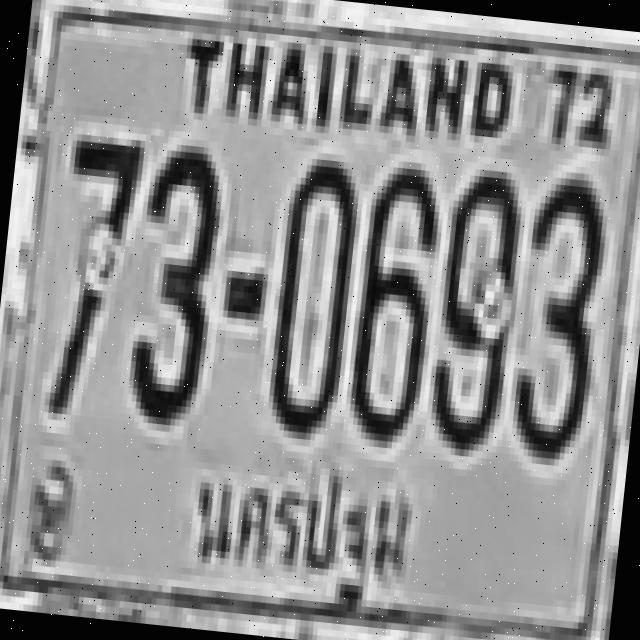0: (264, 153, 359, 432)
3: (506, 168, 606, 454), (121, 140, 222, 420)
6: (342, 162, 438, 440)
7: (44, 133, 140, 419)
9: (422, 163, 523, 449)
NakhonPathom: (170, 448, 416, 618)
